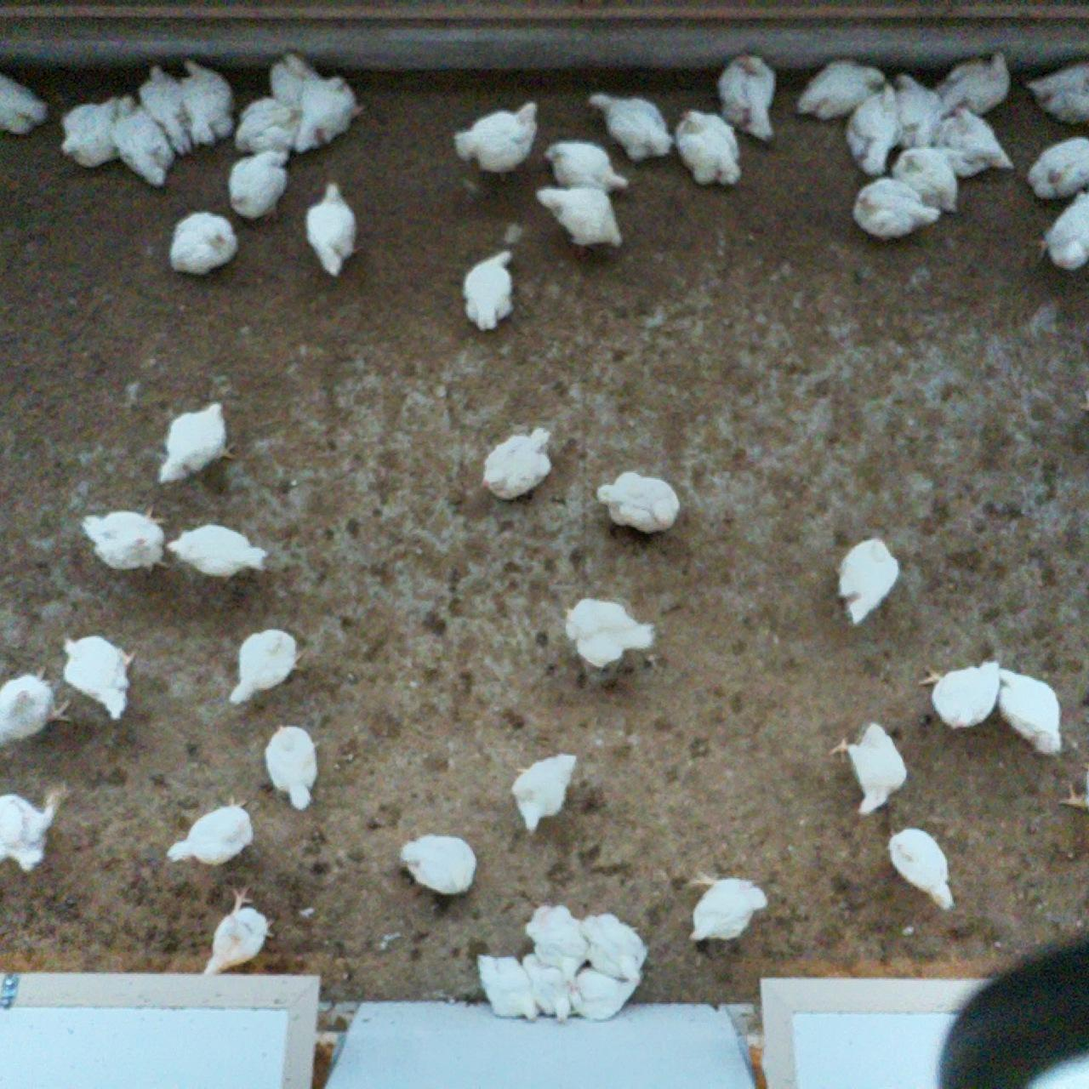chicken: (825, 716, 913, 818), (154, 395, 244, 493), (444, 95, 541, 185), (197, 881, 283, 980), (560, 591, 662, 672), (160, 789, 260, 869), (75, 501, 173, 582), (58, 626, 138, 724), (225, 622, 311, 713), (708, 45, 786, 145), (500, 745, 582, 839), (475, 420, 560, 510), (679, 861, 769, 946), (109, 89, 180, 195), (911, 657, 1007, 735), (164, 518, 272, 587), (582, 88, 676, 167), (993, 660, 1066, 761), (592, 464, 685, 543), (884, 822, 959, 916), (289, 70, 370, 156), (304, 178, 368, 284), (834, 533, 905, 628), (0, 661, 77, 748), (259, 721, 328, 818), (795, 53, 888, 124), (0, 778, 66, 877), (935, 102, 1018, 180), (520, 898, 591, 989), (671, 105, 745, 190), (136, 61, 199, 160), (533, 184, 626, 251), (849, 173, 941, 240), (577, 906, 651, 989), (176, 55, 239, 151), (541, 137, 635, 200), (934, 46, 1014, 120), (396, 830, 481, 898), (888, 140, 964, 216), (1020, 48, 1089, 128), (226, 145, 293, 227), (459, 245, 520, 335), (840, 84, 899, 177), (58, 91, 122, 176), (167, 208, 243, 279), (471, 951, 539, 1028), (1029, 189, 1089, 276), (562, 961, 640, 1022), (1023, 133, 1089, 205), (230, 90, 304, 154), (520, 947, 574, 1027), (0, 66, 54, 142), (893, 68, 942, 151), (268, 46, 315, 108)
